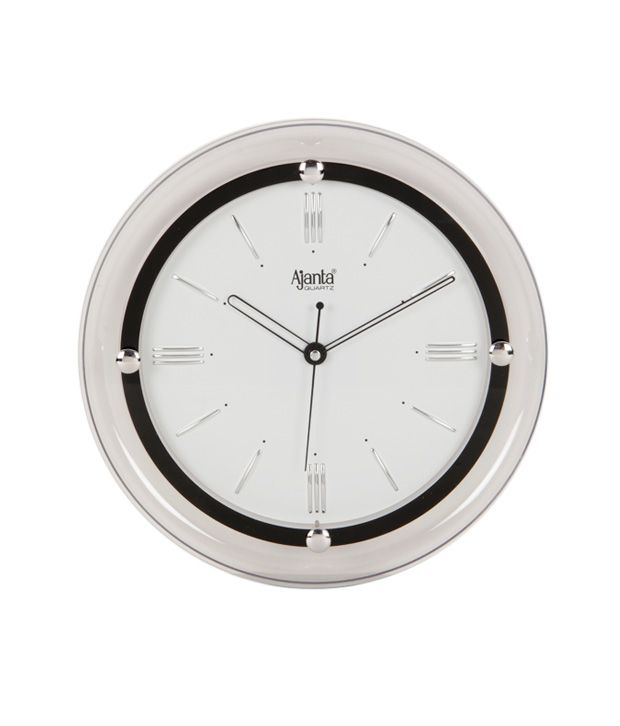clock: (129, 162, 506, 548)
